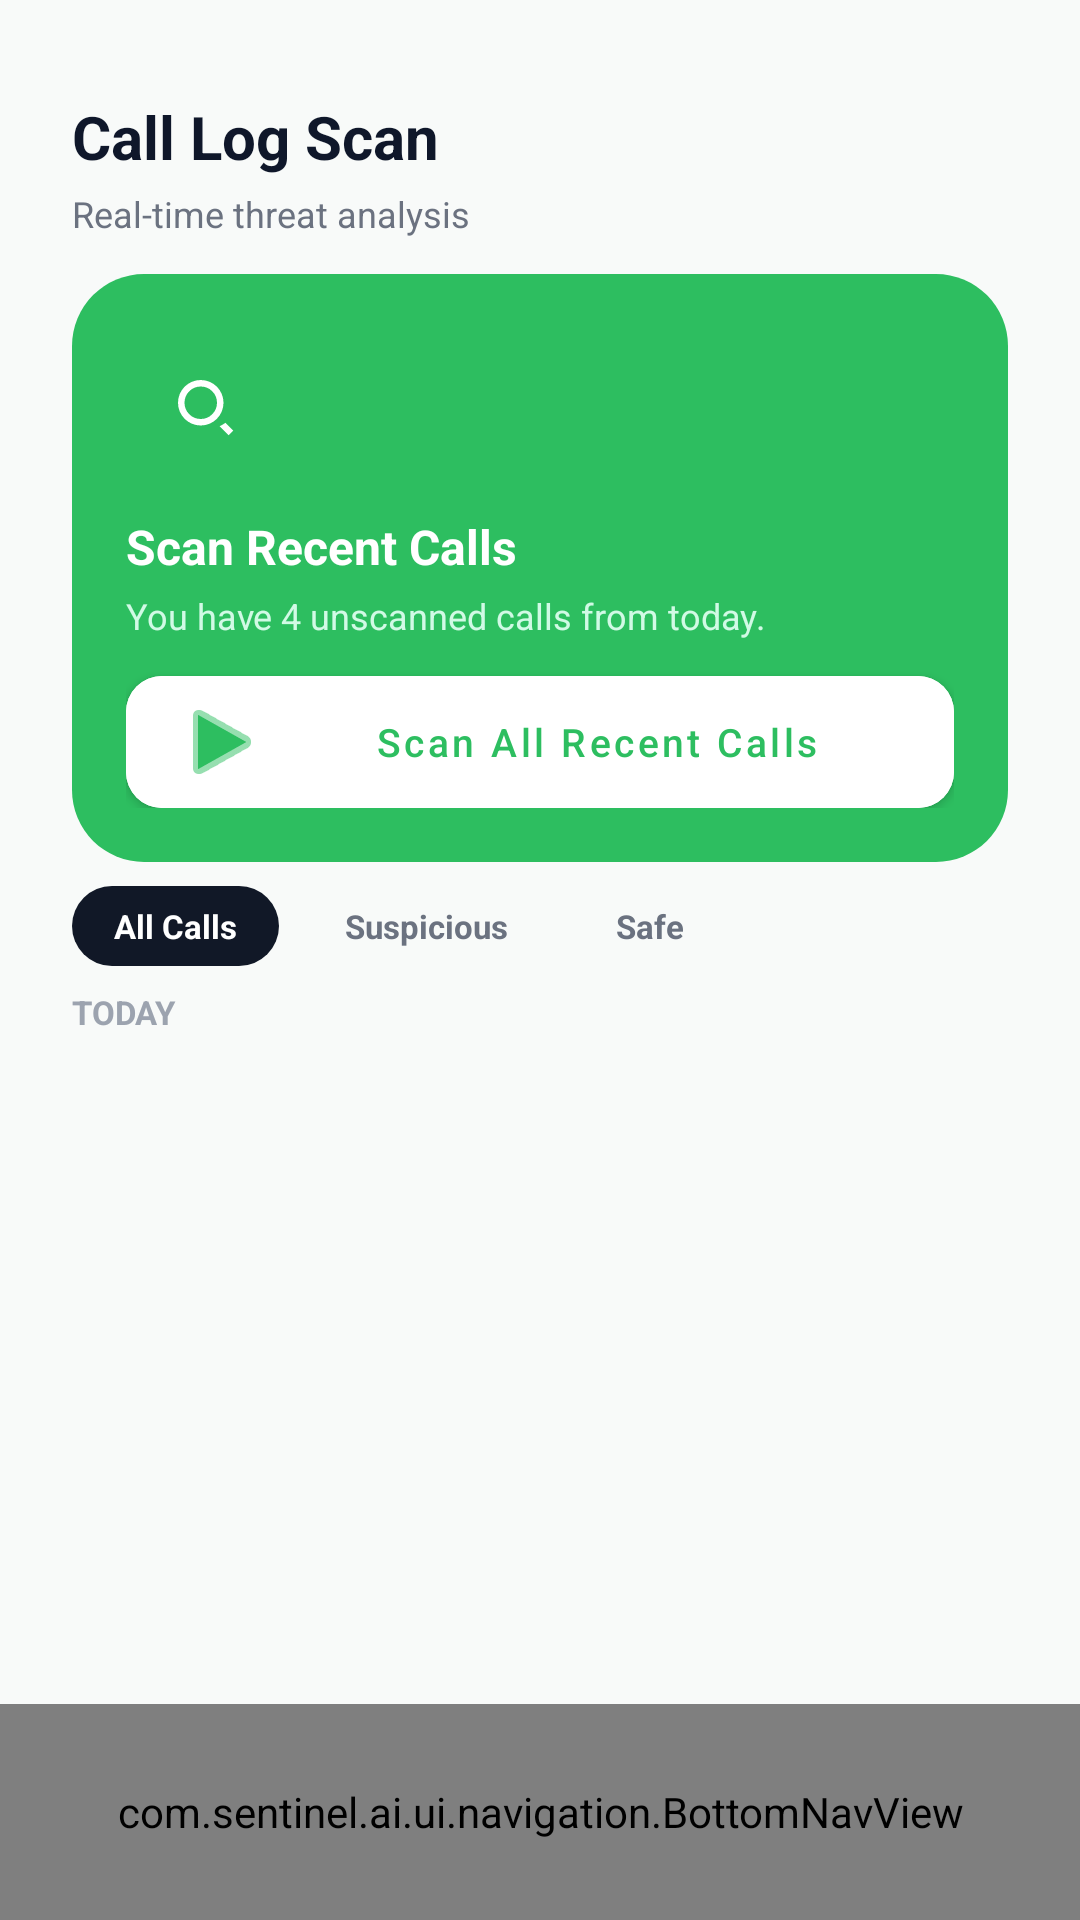

Icon bounding boxes for this 1080 × 1920 phone screenshot, format (x1, y1, x2, y2):
checklink scan: (178, 380, 233, 435)
